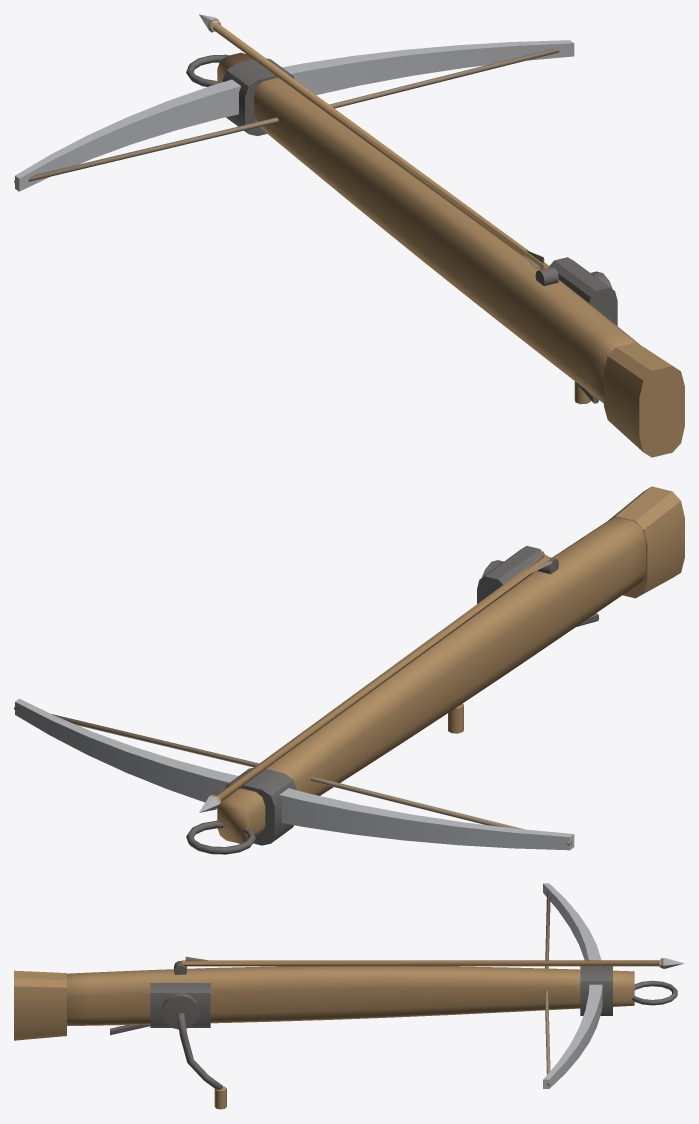
Rendered from heavy-crank-crossbow.glb.
3 views of the same model, one above another, from view 1: azimuth 30°, elevation 25°; view 2: azimuth 150°, elevation 25°; view 3: azimuth 270°, elevation 25° (orthographic). The views are drawn at different scales.
Parts seen in each view (by area): view 1: heavy-crank-crossbow; view 2: heavy-crank-crossbow; view 3: heavy-crank-crossbow.
Boxes of the visible parts, x1,y1,x2,y2 form: heavy-crank-crossbow: [14, 14, 684, 457]; heavy-crank-crossbow: [14, 486, 684, 854]; heavy-crank-crossbow: [14, 883, 684, 1109].
Bounding box in the file's own units: 1.84 × 0.565 × 2.66.
